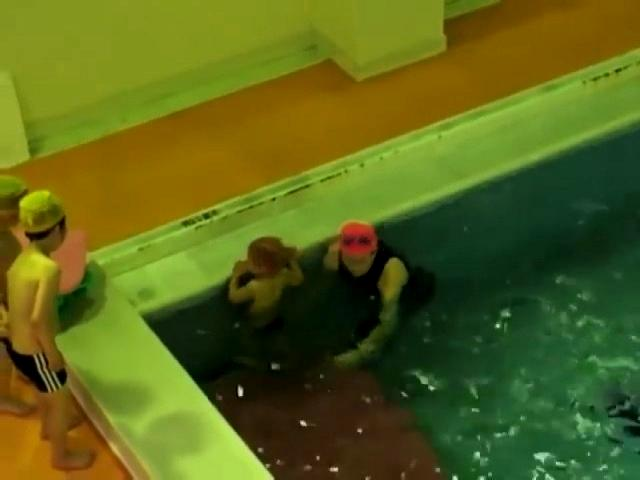out of water: (3, 187, 96, 473)
swimming: (317, 216, 435, 366), (221, 231, 307, 333)
